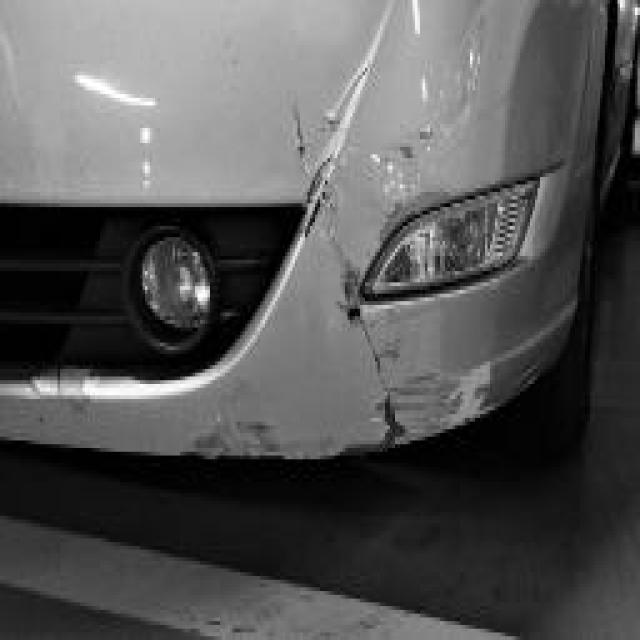Bumper: (232, 15, 572, 463)
